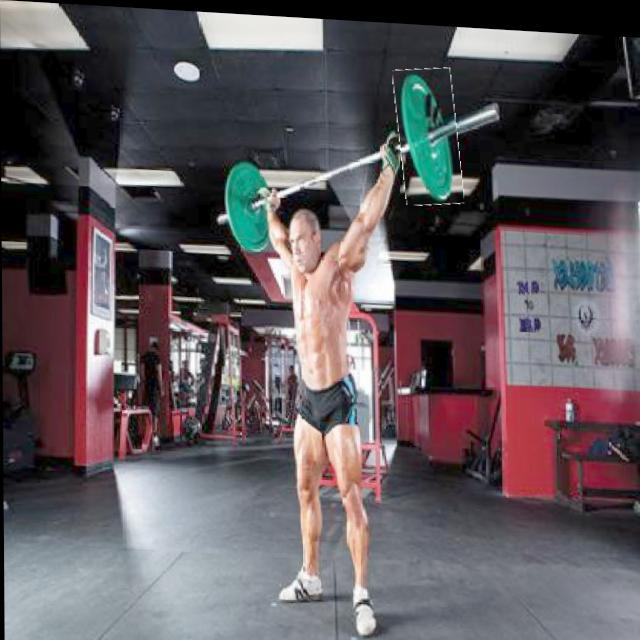barbell: (396, 62, 461, 203)
